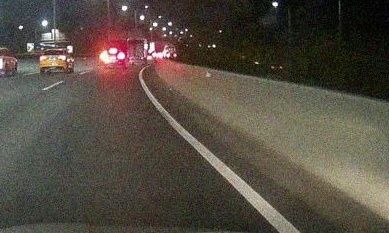L_light: (40, 56, 46, 60), (102, 56, 107, 58)
R_light: (58, 56, 65, 60), (119, 55, 124, 58)
T_light: (111, 51, 115, 53), (52, 50, 56, 51)
night-left: (101, 50, 124, 68)
night-no: (40, 49, 66, 73)
